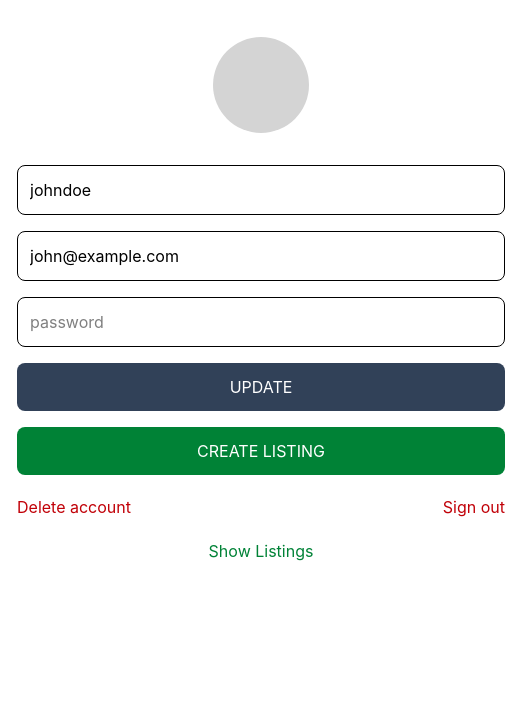
Test: Profile — show listings › renders Your Listings heading and listing names on success
Click the button "Show Listings": (261, 551) [17,539,505,563]
(page scrolled)
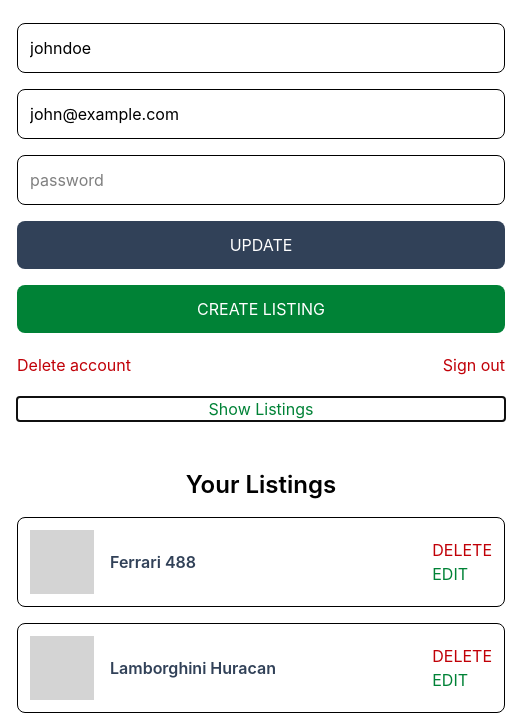
Now the heading "Your Listings" is shown, box [186,470,336,499]
Now the text "Ferrari 488" is shown, box [110,552,196,572]
Now the text "Lamborghini Huracan" is shown, box [110,658,276,678]
